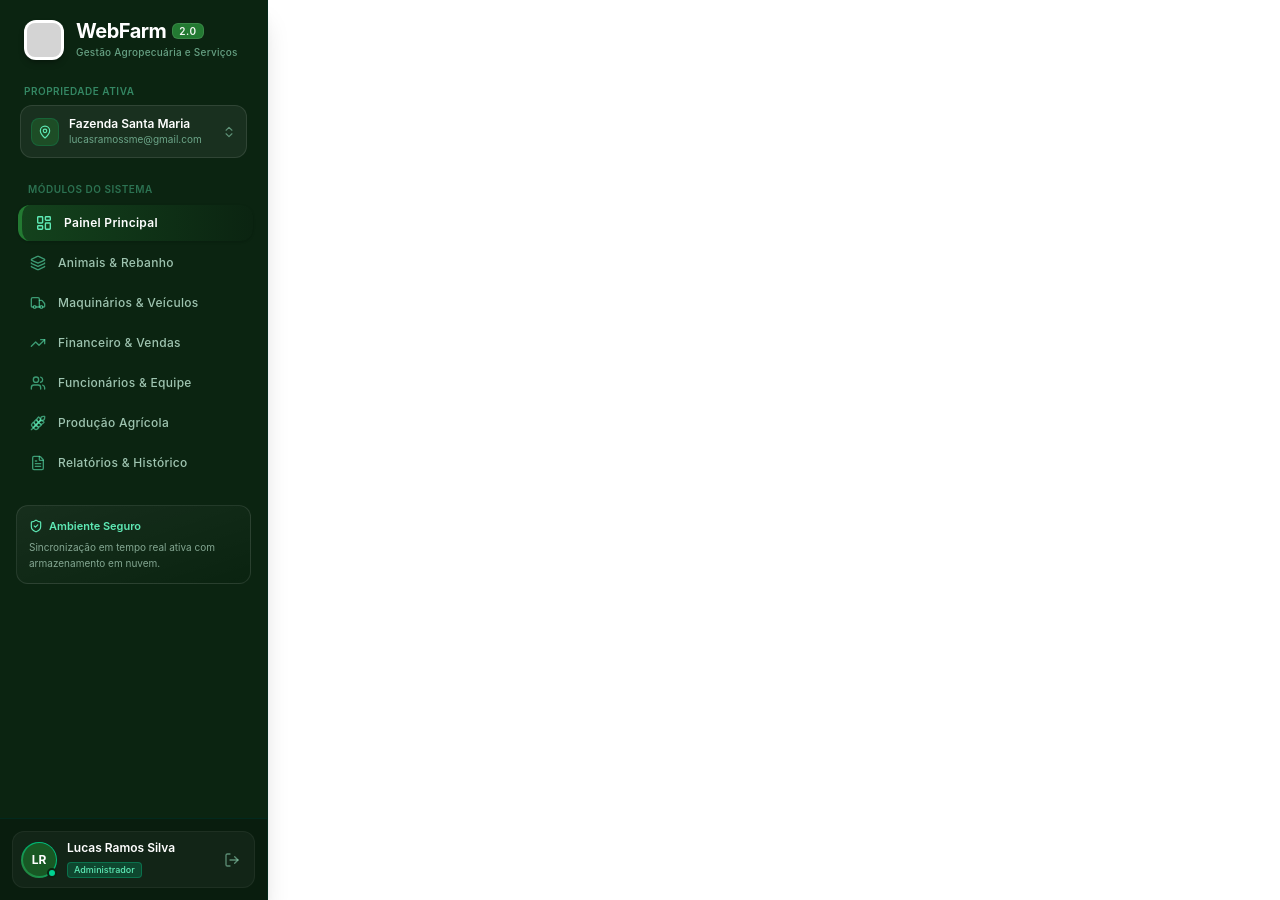
Test case: Componente Sidebar › deve abrir o modal de perfil da fazenda ao clicar no card da propriedade
Click the button titled "Ver e Gerenciar Perfil da Fazenda" at x=134, y=132, box [20, 105, 247, 158]
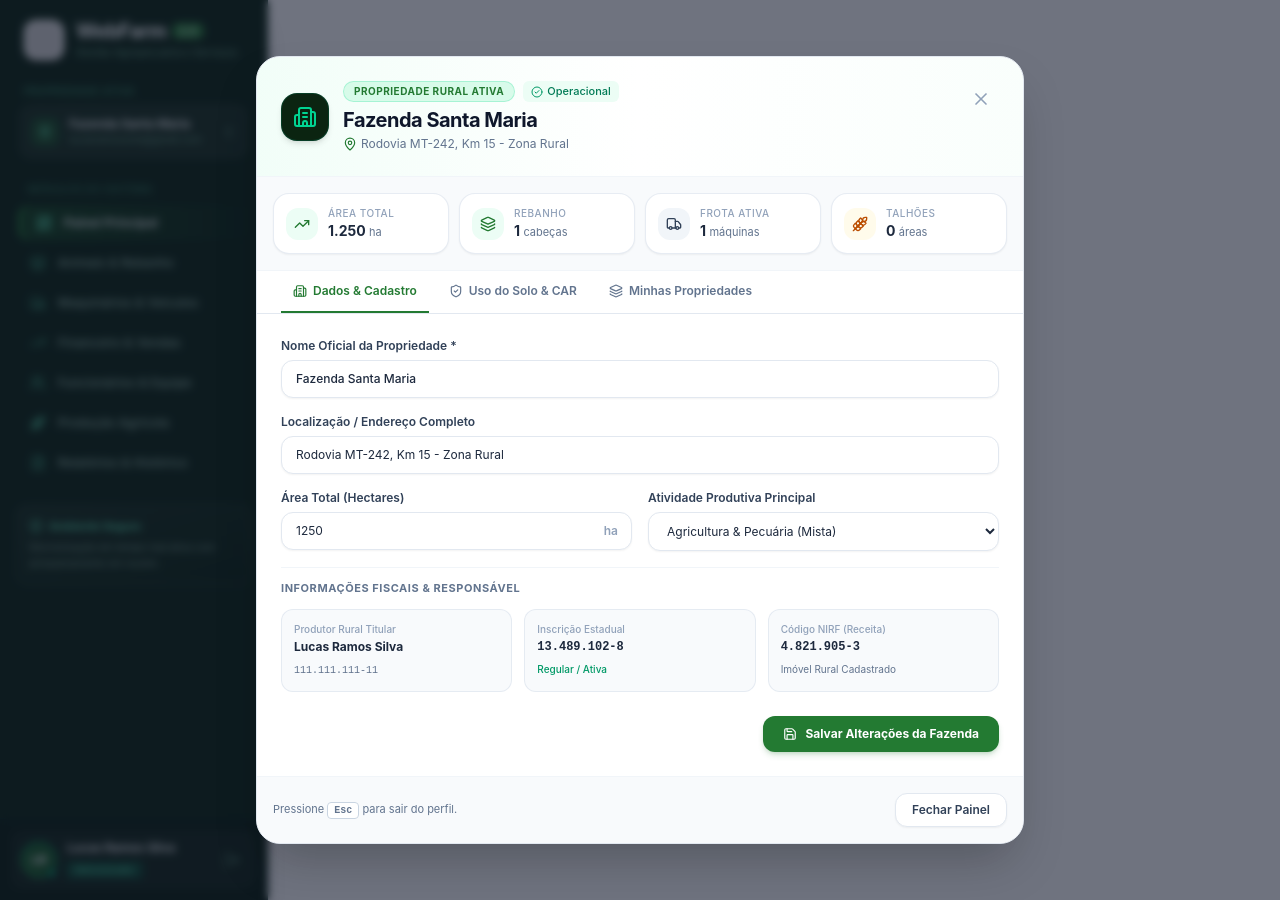
Check: the text "Propriedade Rural Ativa" is shown, box [343, 81, 515, 102]
